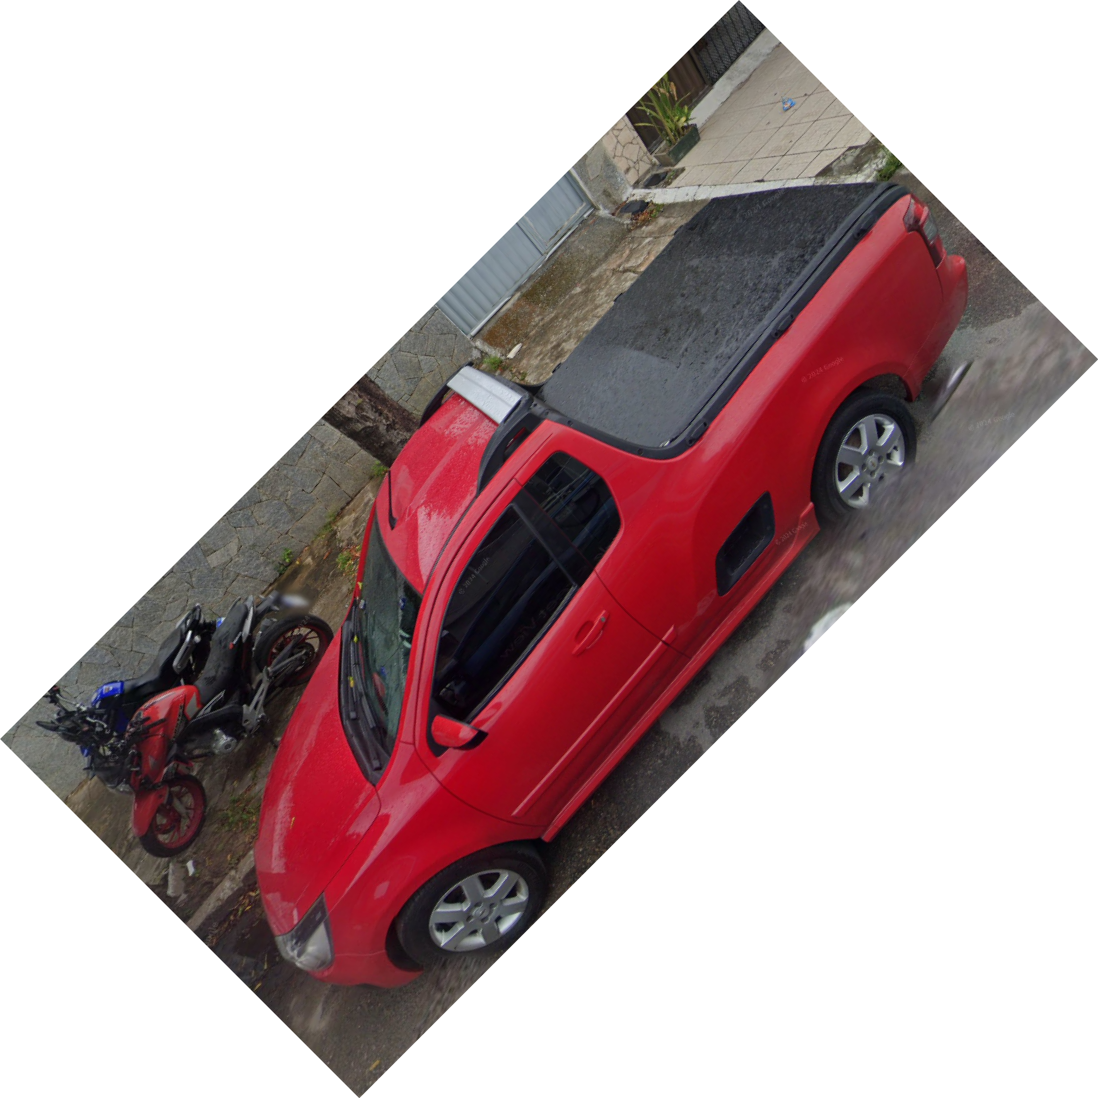car: (261, 184, 968, 981)
